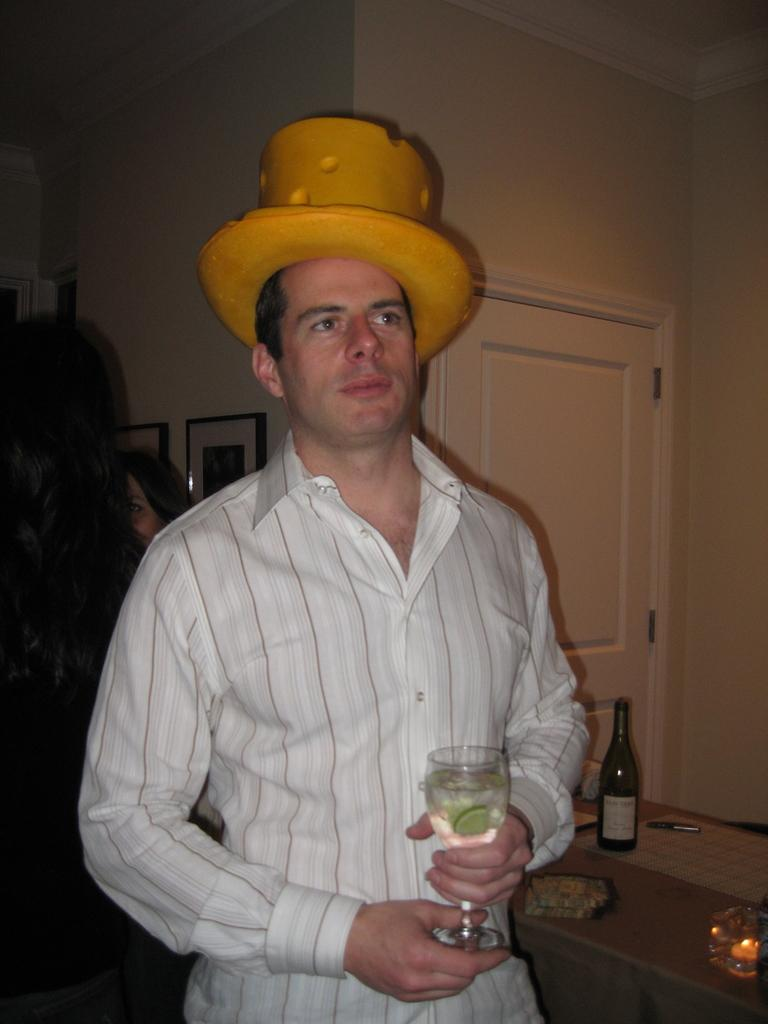Hat: (197, 114, 479, 362)
